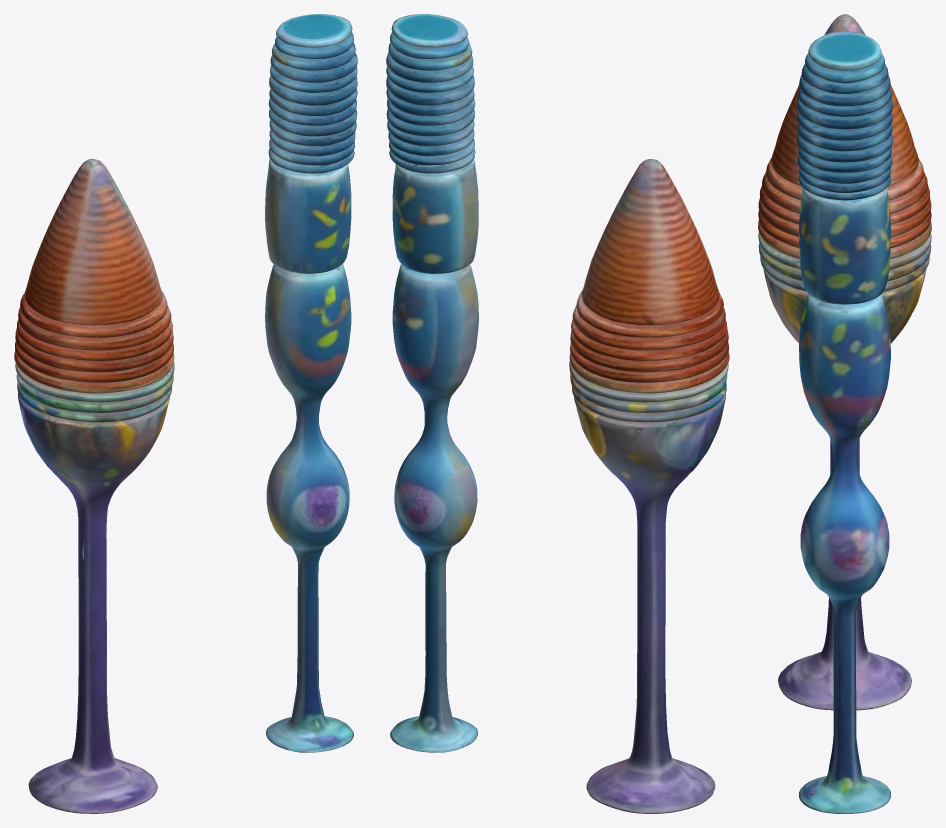
File: sensory-cells-lite.glb
3 views of the same model, side by side, from view 1: azimuth 30°, elevation 25°; view 2: azimuth 150°, elevation 25°; view 3: azimuth 270°, elevation 25° (orthographic). The views are drawn at different scales.
Visible parts, largest first — view 1: Object_4; view 2: Object_4; view 3: Object_4.
Boxes of the visible parts, bbox=[...] form: Object_4: bbox=[14, 14, 357, 813]; Object_4: bbox=[386, 14, 729, 813]; Object_4: bbox=[758, 14, 931, 813].
Size of the model in its own units: 0.9684 by 2 by 0.4206.
1 material, 1 textured.
